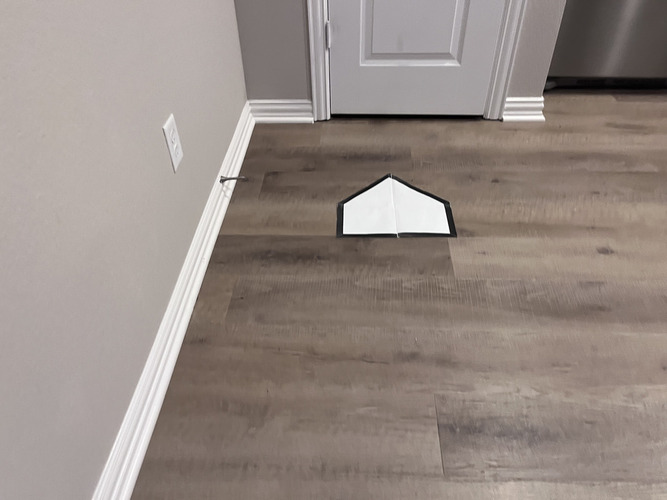homeplate: (336, 172, 455, 238)
